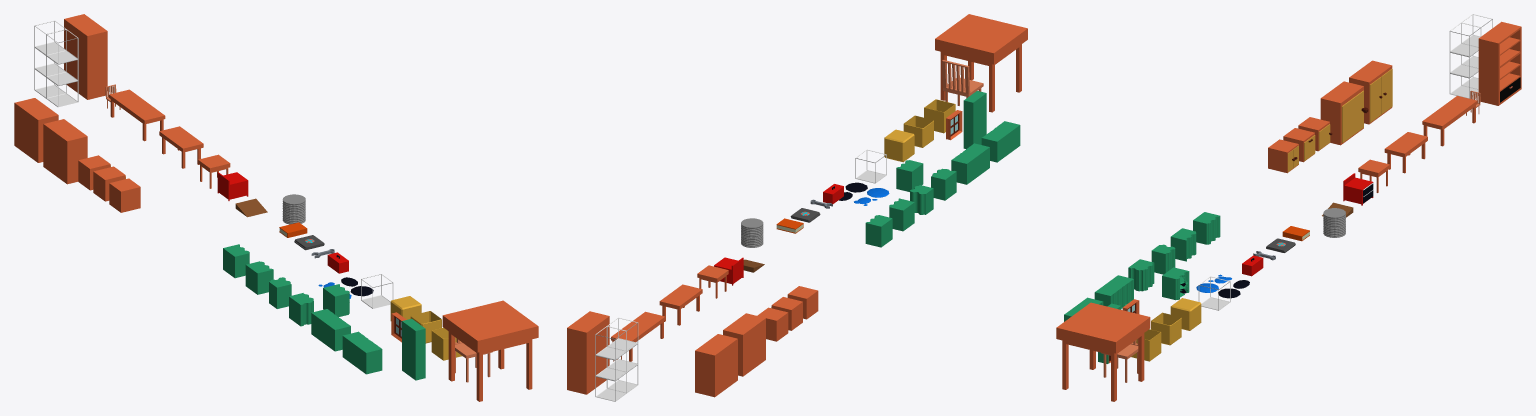
Rendered from LevelAssets.fbx.
The picture shows the model from 3 angles, left to right: view 1: azimuth 30°, elevation 25°; view 2: azimuth 150°, elevation 25°; view 3: azimuth 330°, elevation 25°; orthographic projection. The views are drawn at different scales.
Parts seen in each view (by area): view 1: Table3x3?Large, BookCase, Cub2x2_1Door, 2x3CubeWireframe, Cub2x2_2Door, FlatMetalWall, M2.002, Table1x3, M2.001, Cub2, Table1x2, M1.001 (+13 smaller); view 2: Table3x3?Large, BookCase, Cub2x2_2Door, 2x3CubeWireframe, Cub2x2_1Door, FlatMetalWall, M2.001, M2.002, ChairLarge, Table1x3, Box1, Table1x2 (+15 smaller); view 3: Table3x3?Large, BookCase, Cub2x2_1Door, Cub2x2_2Door, 2x3CubeWireframe, Table1x3, M2.001, Cub2, Table1x2, CrackedPanel, Box1, M1.002 (+12 smaller).
Boxes of the visible parts, x1=… form: Table3x3?Large: x1=442, y1=300, x2=538, y2=401; BookCase: x1=64, y1=14, x2=107, y2=99; Cub2x2_1Door: x1=43, y1=119, x2=87, y2=184; 2x3CubeWireframe: x1=34, y1=20, x2=78, y2=107; Cub2x2_2Door: x1=14, y1=98, x2=58, y2=162; FlatMetalWall: x1=402, y1=318, x2=425, y2=380; M2.002: x1=342, y1=331, x2=382, y2=374; Table1x3: x1=109, y1=89, x2=165, y2=141; M2.001: x1=311, y1=309, x2=350, y2=351; Cub2: x1=109, y1=178, x2=140, y2=212; Table1x2: x1=159, y1=126, x2=203, y2=168; M1.001: x1=245, y1=261, x2=273, y2=294; Table3x3?Large: x1=935, y1=14, x2=1027, y2=112; BookCase: x1=567, y1=311, x2=609, y2=394; Cub2x2_2Door: x1=695, y1=334, x2=737, y2=397; 2x3CubeWireframe: x1=595, y1=317, x2=638, y2=401; Cub2x2_1Door: x1=723, y1=313, x2=765, y2=376; FlatMetalWall: x1=963, y1=91, x2=986, y2=149; M2.001: x1=951, y1=143, x2=989, y2=184; M2.002: x1=981, y1=121, x2=1020, y2=162; ChairLarge: x1=942, y1=60, x2=983, y2=105; Table1x3: x1=611, y1=311, x2=665, y2=361; Box1: x1=884, y1=129, x2=914, y2=162; Table1x2: x1=659, y1=284, x2=702, y2=325; Table3x3?Large: x1=1056, y1=302, x2=1150, y2=401; BookCase: x1=1478, y1=21, x2=1521, y2=105; Cub2x2_1Door: x1=1320, y1=81, x2=1368, y2=145; Cub2x2_2Door: x1=1349, y1=60, x2=1392, y2=124; 2x3CubeWireframe: x1=1449, y1=14, x2=1492, y2=98; Table1x3: x1=1422, y1=95, x2=1477, y2=146; M2.001: x1=1094, y1=275, x2=1133, y2=308; Cub2: x1=1268, y1=139, x2=1298, y2=173; Table1x2: x1=1384, y1=132, x2=1427, y2=173; CrackedPanel: x1=1162, y1=267, x2=1189, y2=300; Box1: x1=1170, y1=298, x2=1201, y2=330; M1.002: x1=1193, y1=212, x2=1220, y2=244.
Bounding box in the file's own units: 1277 × 7320 × 702.
